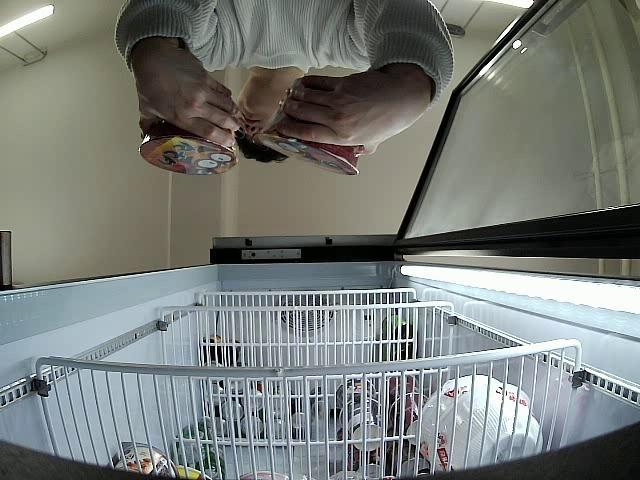05_nuguri_L: (258, 75, 358, 176), (141, 80, 237, 176)
